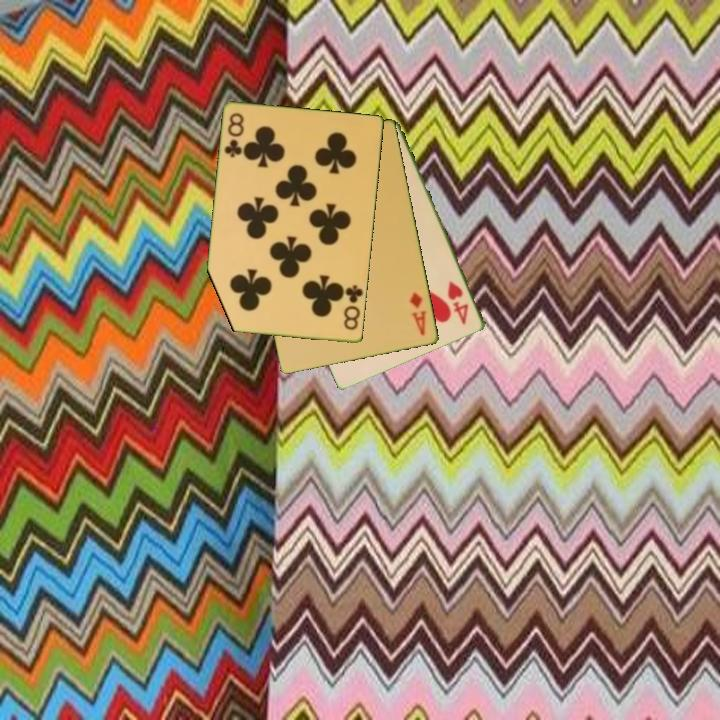4h: (444, 277, 472, 328)
8c: (340, 281, 366, 333), (221, 110, 247, 161)
Ad: (406, 289, 430, 339)
